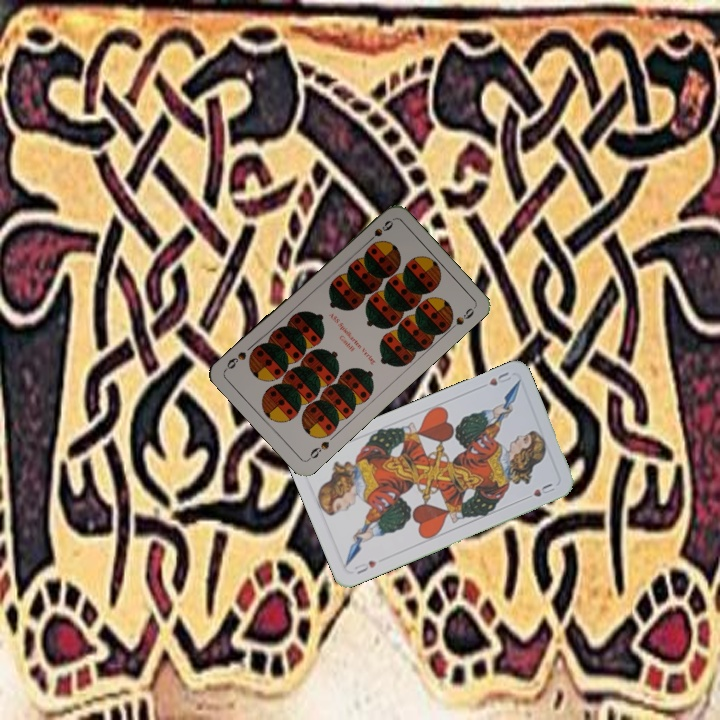HU: (350, 556, 379, 577), (485, 368, 514, 388)
S9: (362, 216, 396, 247), (304, 437, 332, 463)
